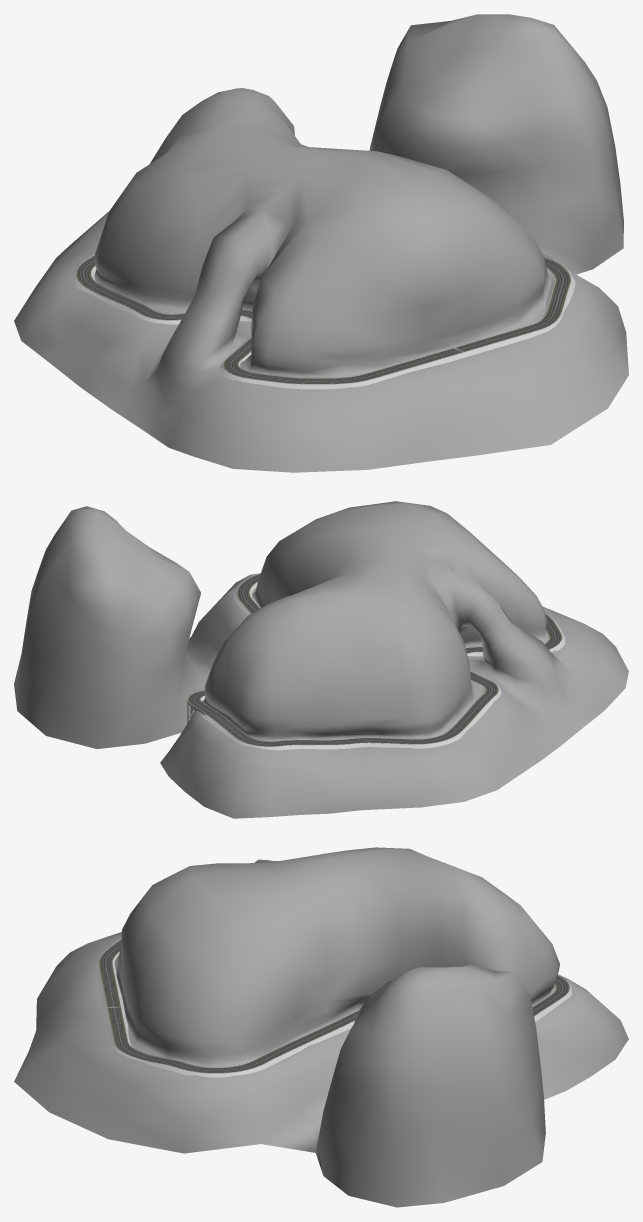
Rendered from Track_A_03.FBX.
3 renders of one model, top to bottom at view 1: azimuth 30°, elevation 25°; view 2: azimuth 150°, elevation 25°; view 3: azimuth 270°, elevation 25°, orthographic. The views are drawn at different scales.
Parts seen in each view (by area): view 1: Track_A_Hill_01, Road_Track_A_01; view 2: Track_A_Hill_01, Road_Track_A_01; view 3: Track_A_Hill_01, Road_Track_A_01.
Part boxes in pixels (box(x1,y1,x2,y2)): Track_A_Hill_01: box(14, 14, 628, 472); Road_Track_A_01: box(71, 255, 575, 389); Track_A_Hill_01: box(14, 501, 628, 818); Road_Track_A_01: box(188, 574, 565, 750); Track_A_Hill_01: box(14, 847, 628, 1207); Road_Track_A_01: box(95, 939, 571, 1077).
Size of the model in its own units: 30303 by 10677 by 30357.
